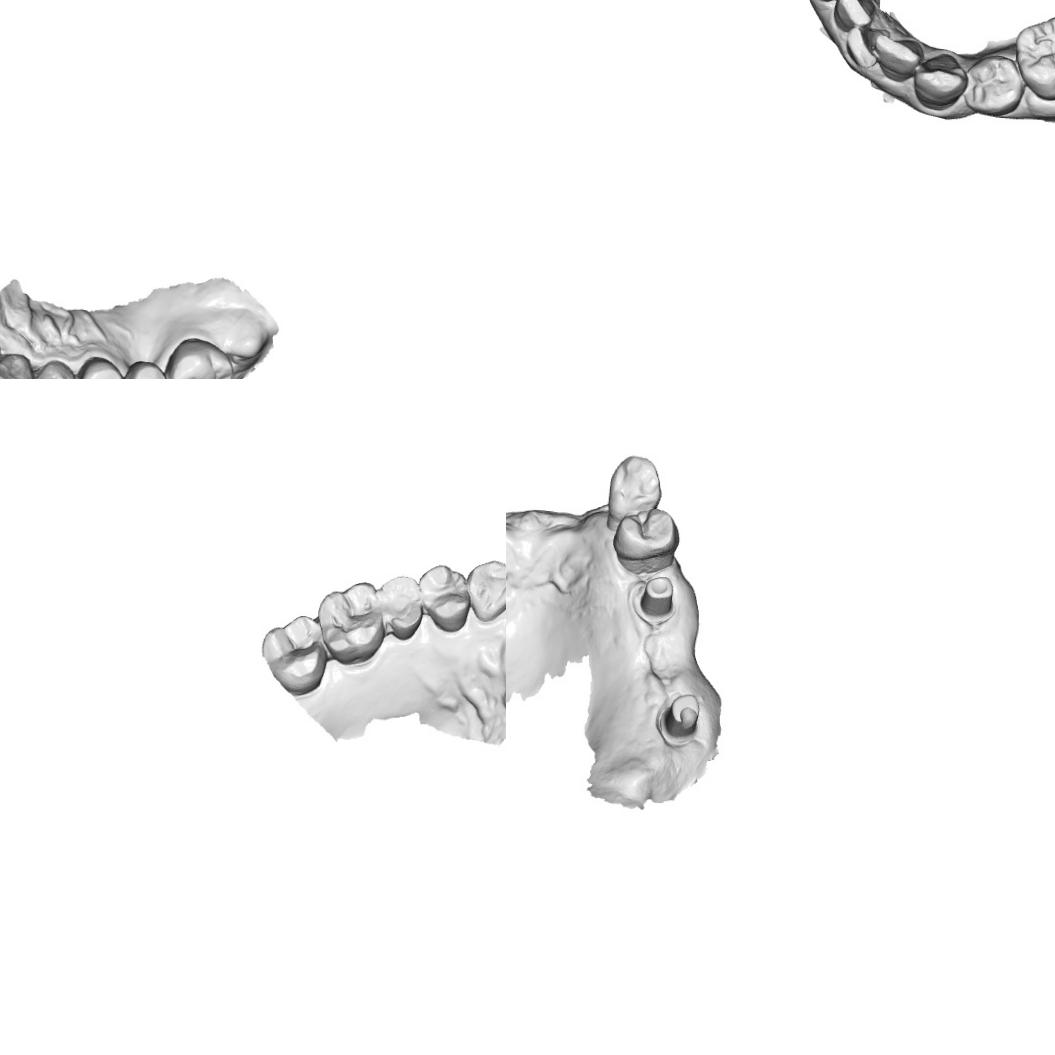abutment: (630, 574, 678, 628), (659, 691, 702, 742)
canine: (606, 454, 663, 519), (911, 50, 968, 112), (463, 555, 506, 624), (27, 357, 81, 379)
incisor: (873, 30, 922, 81), (844, 24, 878, 72), (832, 0, 879, 29), (0, 351, 36, 379)
molar: (316, 578, 386, 666), (258, 614, 328, 696), (1013, 10, 1055, 102), (164, 338, 236, 379)
premolar: (610, 506, 682, 569), (962, 53, 1026, 116), (418, 564, 472, 634), (374, 572, 419, 644), (75, 355, 128, 379), (122, 359, 172, 379)
